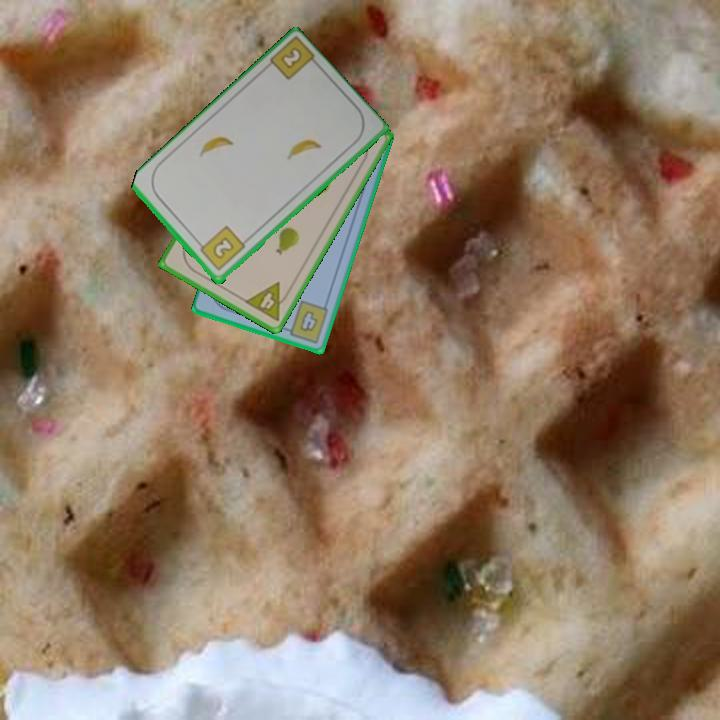2b: (194, 223, 248, 274), (277, 44, 305, 72)
4b: (280, 297, 332, 346)
4p: (241, 279, 294, 324)
